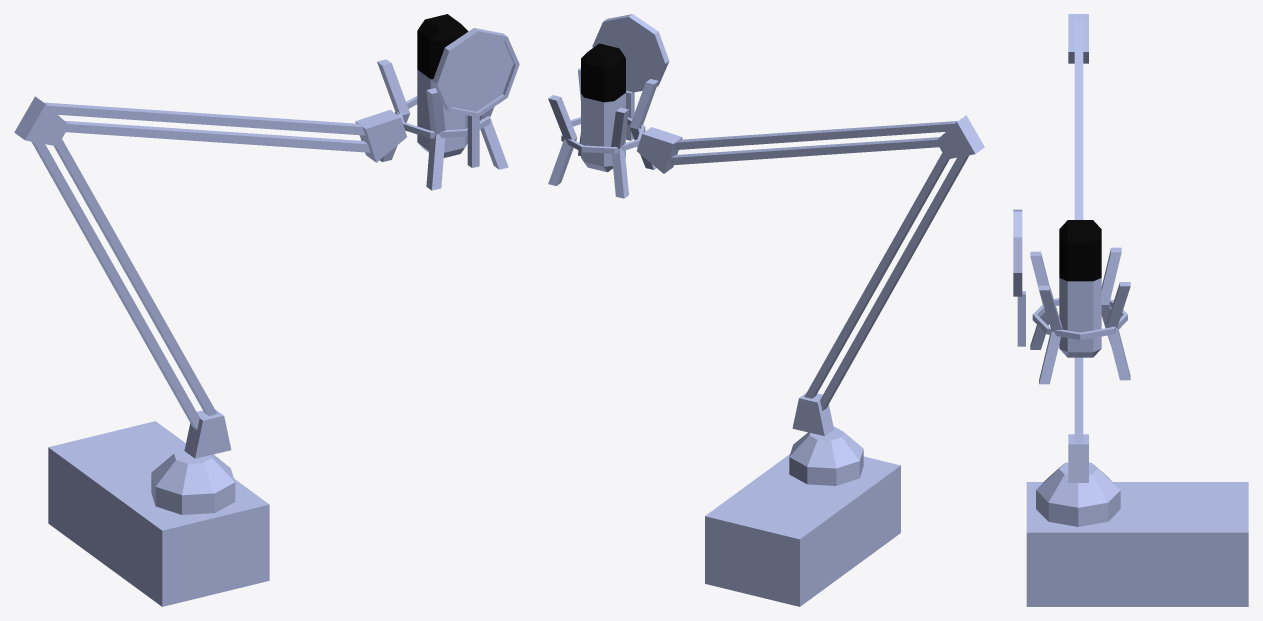
Rendered from MicAndBoom.fbx.
3 views of the same model, side by side, from view 1: azimuth 30°, elevation 25°; view 2: azimuth 150°, elevation 25°; view 3: azimuth 270°, elevation 25° (orthographic). The views are drawn at different scales.
Visible parts, largest first — view 1: Plane.007, Plane.004; view 2: Plane.007, Plane.004; view 3: Plane.004, Plane.007.
Part boxes in pixels (x1,y1,x2,y2): Plane.007: [14, 14, 519, 514]; Plane.004: [48, 421, 269, 606]; Plane.007: [548, 14, 984, 485]; Plane.004: [705, 454, 900, 606]; Plane.004: [1026, 482, 1248, 606]; Plane.007: [1013, 14, 1130, 526].
Size of the model in its own units: 96.28 by 100 by 42.98.
